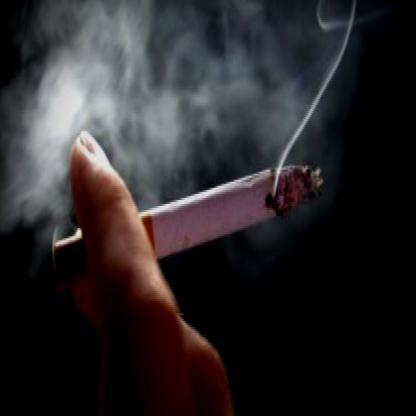cigarette: (48, 166, 330, 290)
smoke: (16, 0, 306, 180)
